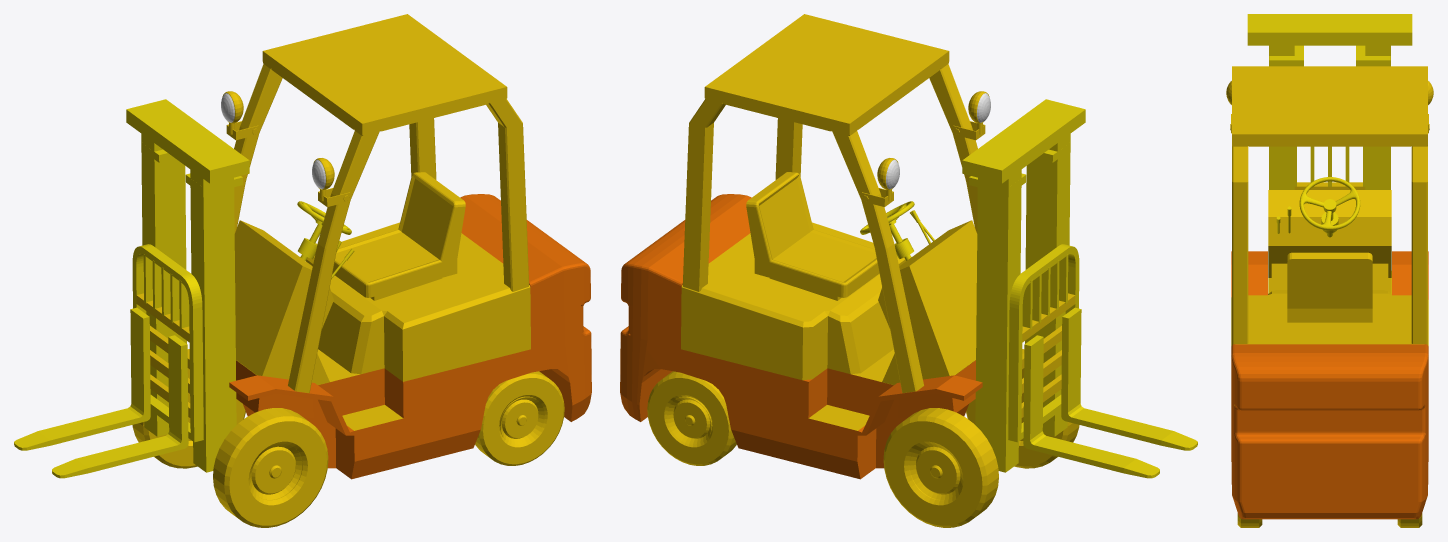
The picture shows the model from 3 angles, left to right: view 1: azimuth 30°, elevation 25°; view 2: azimuth 150°, elevation 25°; view 3: azimuth 270°, elevation 25°; orthographic projection.
Visible parts, largest first — view 1: Roof, Cube_1, Cube.3, Tube, Cube.12_5, Lift, Panel, Cube.4, Cube.12, Cube.6, Sphere; view 2: Roof, Cube_1, Cube.3, Tube, Cube.12_5, Lift, Panel, Cube.4, Cube.12, Cube.6, Sphere; view 3: Cube_1, Roof, Panel, Cube.3, Cube.12, Cube.6, Cube.12_5, Cube.4, Tube_drive, Lift, Cube.13_2, Tube.
Boxes of the visible parts, x1,y1,x2,y2 form: Roof: (234,14,529,392); Cube_1: (229,194,591,479); Cube.3: (306,222,530,381); Tube: (132,349,564,527); Cube.12_5: (141,134,236,472); Lift: (14,244,203,478); Panel: (234,220,333,384); Cube.4: (332,229,457,297); Cube.12: (126,99,249,183); Cube.6: (398,172,465,269); Sphere: (221,91,334,189); Roof: (682,14,977,392); Cube_1: (620,194,982,479); Cube.3: (681,222,905,380); Tube: (647,349,1079,527); Cube.12_5: (975,134,1070,472); Lift: (1008,244,1197,478); Panel: (878,220,977,384); Cube.4: (754,229,879,297); Cube.12: (962,99,1085,183); Cube.6: (746,172,813,269); Sphere: (877,91,990,189); Cube_1: (1231,251,1428,519); Roof: (1232,66,1427,344); Panel: (1268,190,1391,293); Cube.3: (1231,290,1428,405); Cube.12: (1247,14,1412,45); Cube.6: (1287,252,1372,308); Cube.12_5: (1269,45,1390,189); Cube.4: (1287,308,1372,322); Tube_drive: (1299,177,1360,230); Lift: (1294,146,1365,189); Cube.13_2: (1269,45,1390,66); Tube: (1237,513,1422,527).
Bounding box in the file's own units: 2.23 × 1.61 × 0.797.
